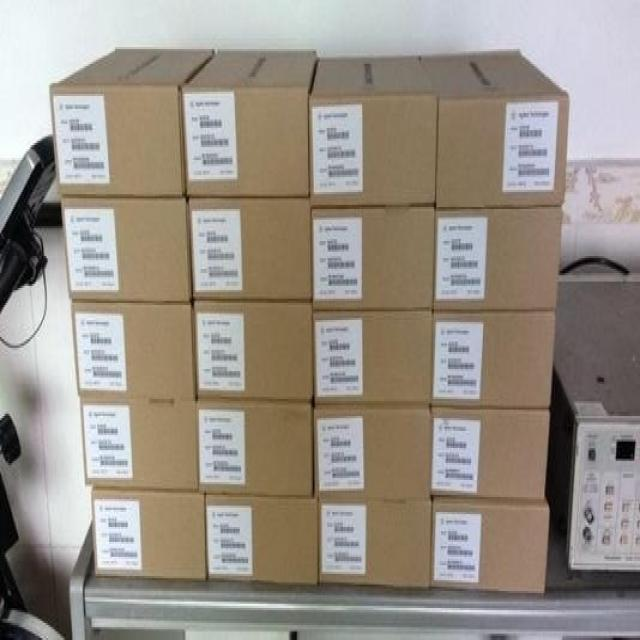box: (49, 46, 215, 199), (421, 52, 570, 206), (178, 48, 318, 198), (309, 57, 439, 208), (58, 196, 192, 301), (434, 202, 563, 307), (186, 196, 313, 300), (309, 205, 434, 308), (70, 300, 196, 402), (431, 306, 556, 408), (191, 298, 314, 401), (431, 492, 550, 595), (312, 401, 432, 498), (196, 400, 313, 496), (431, 406, 550, 500), (313, 309, 431, 402), (80, 399, 199, 491), (205, 492, 319, 584), (92, 489, 207, 579), (318, 497, 431, 588)
